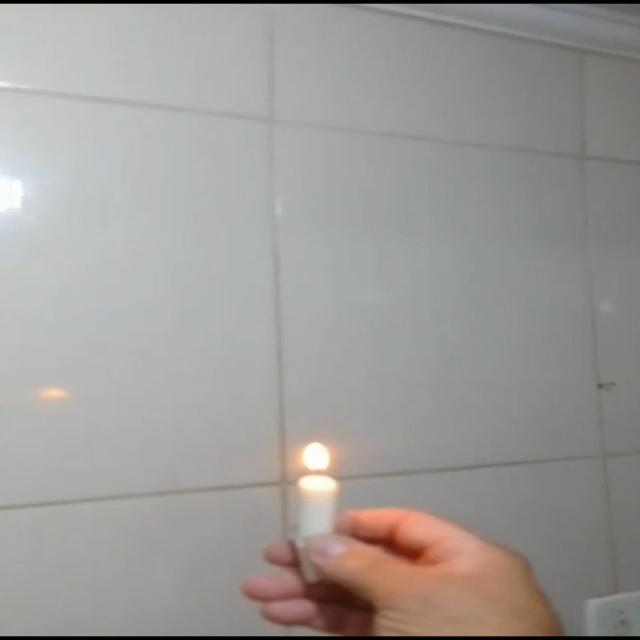fogo-ypXI: (294, 438, 337, 474)
